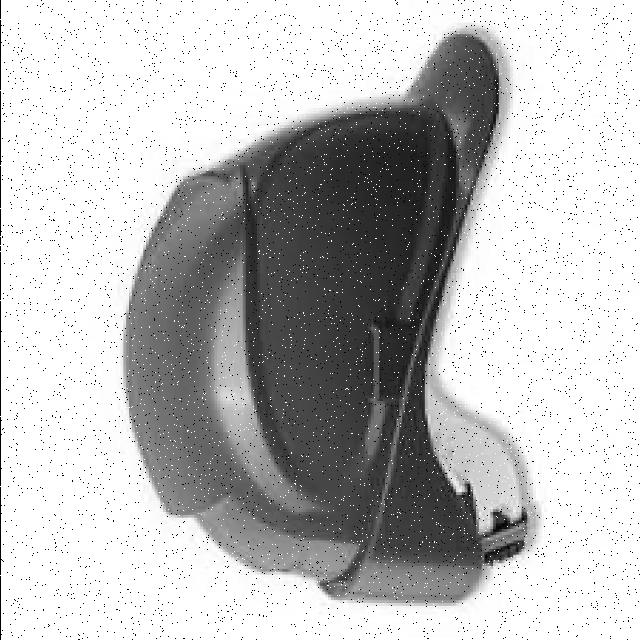Helmet: (124, 35, 524, 602)
